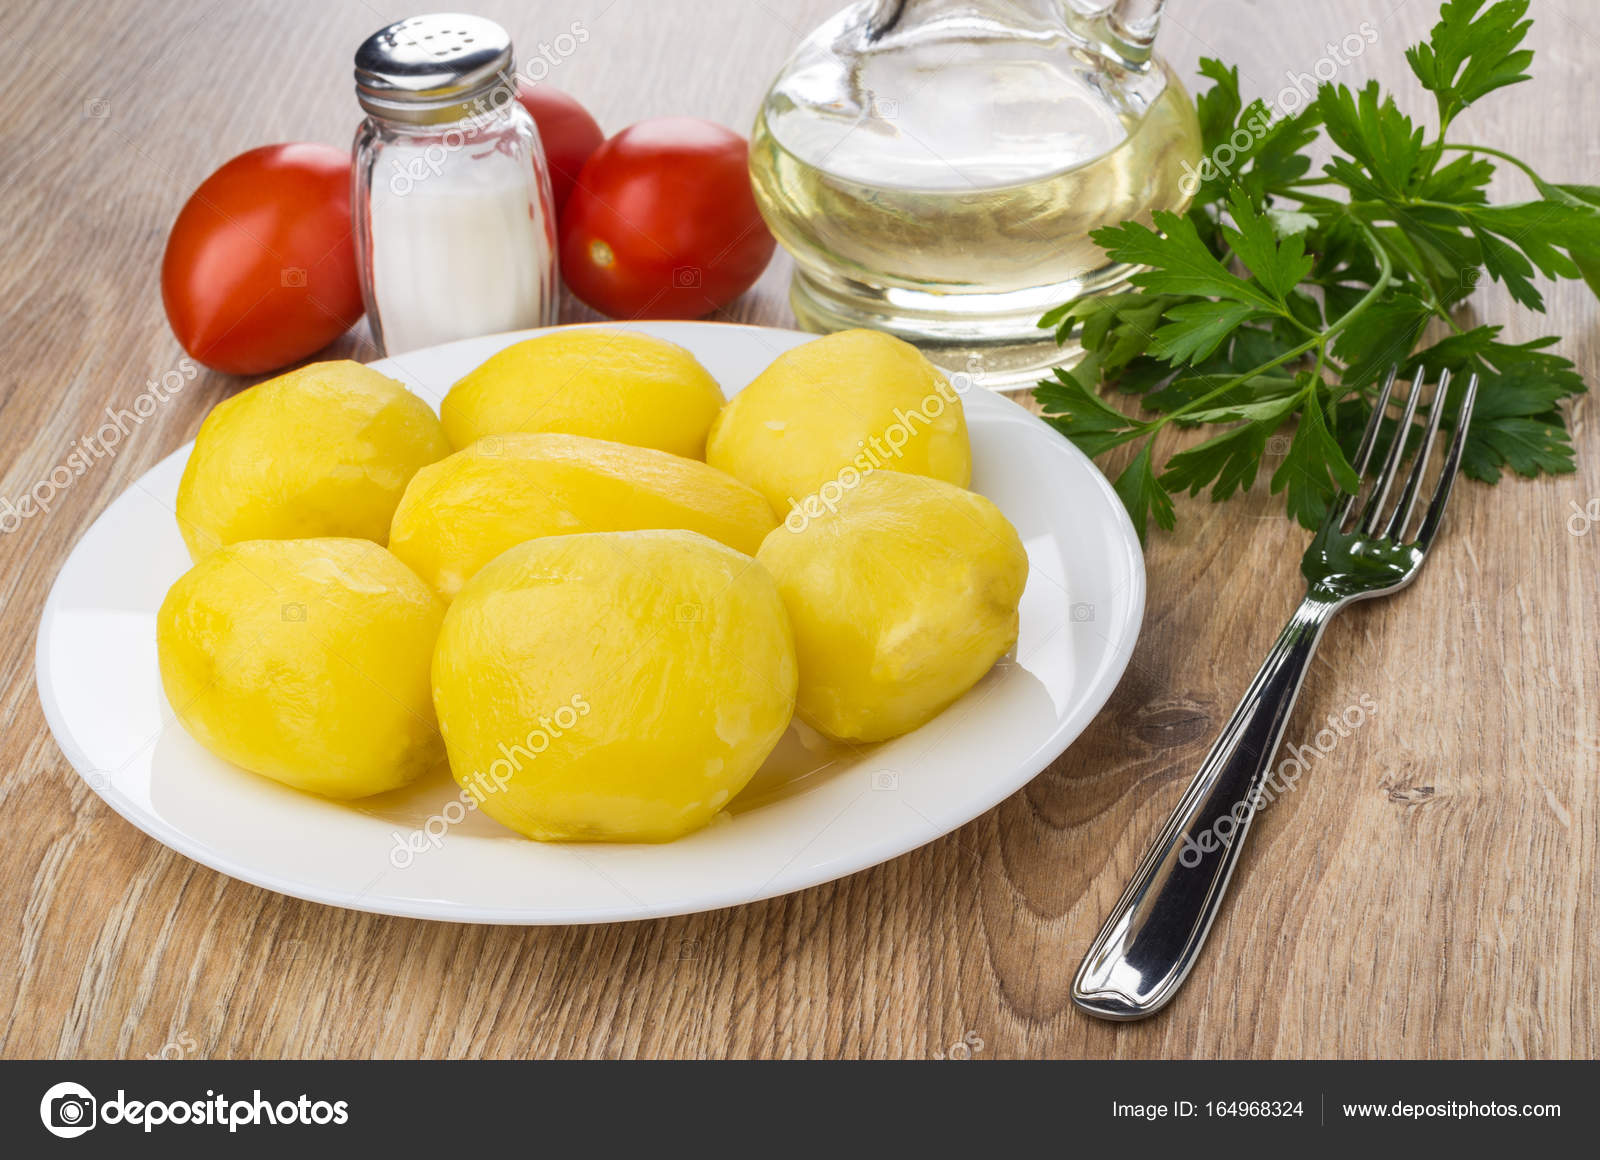boiled potatoes: (220, 364, 971, 756)
